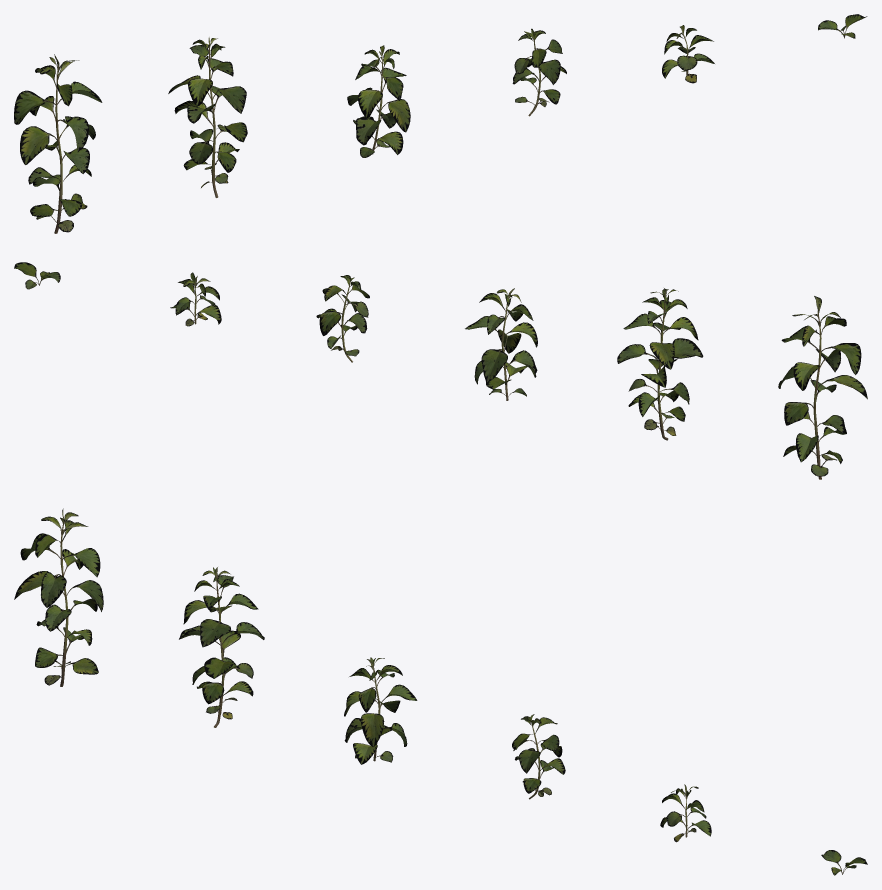
The model's file is nettle_plant.glb.
3 views of the same model, one above another, from view 1: azimuth 30°, elevation 25°; view 2: azimuth 150°, elevation 25°; view 3: azimuth 330°, elevation 25° (orthographic).
Parts seen in each view (by area): view 1: nettle_plant_tall_a_LOD0, nettle_plant_tall_b_LOD0, nettle_plant_medium_a_LOD0, nettle_plant_medium_b_LOD0, nettle_plant_small_a_LOD0; view 2: nettle_plant_tall_a_LOD0, nettle_plant_tall_b_LOD0, nettle_plant_medium_a_LOD0, nettle_plant_medium_b_LOD0, nettle_plant_small_a_LOD0, nettle_plant_small_b_LOD0; view 3: nettle_plant_tall_a_LOD0, nettle_plant_tall_b_LOD0, nettle_plant_medium_a_LOD0, nettle_plant_medium_b_LOD0, nettle_plant_small_a_LOD0.
Boxes of the visible parts, box(x1,y1,x2,y2) form: nettle_plant_tall_a_LOD0: box(14, 54, 102, 233); nettle_plant_tall_b_LOD0: box(168, 37, 247, 197); nettle_plant_medium_a_LOD0: box(347, 45, 410, 157); nettle_plant_medium_b_LOD0: box(512, 28, 566, 116); nettle_plant_small_a_LOD0: box(662, 25, 714, 83); nettle_plant_tall_a_LOD0: box(778, 296, 867, 479); nettle_plant_tall_b_LOD0: box(617, 288, 703, 440); nettle_plant_medium_a_LOD0: box(465, 288, 537, 400); nettle_plant_medium_b_LOD0: box(316, 275, 369, 362); nettle_plant_small_a_LOD0: box(170, 272, 221, 326); nettle_plant_small_b_LOD0: box(14, 262, 60, 289); nettle_plant_tall_a_LOD0: box(14, 508, 103, 686); nettle_plant_tall_b_LOD0: box(179, 567, 264, 727); nettle_plant_medium_a_LOD0: box(344, 657, 417, 764); nettle_plant_medium_b_LOD0: box(512, 714, 565, 799); nettle_plant_small_a_LOD0: box(660, 784, 711, 842).
Bounding box in the file's own units: 1.08 × 0.2184 × 0.0947.
1 material, 1 textured.
